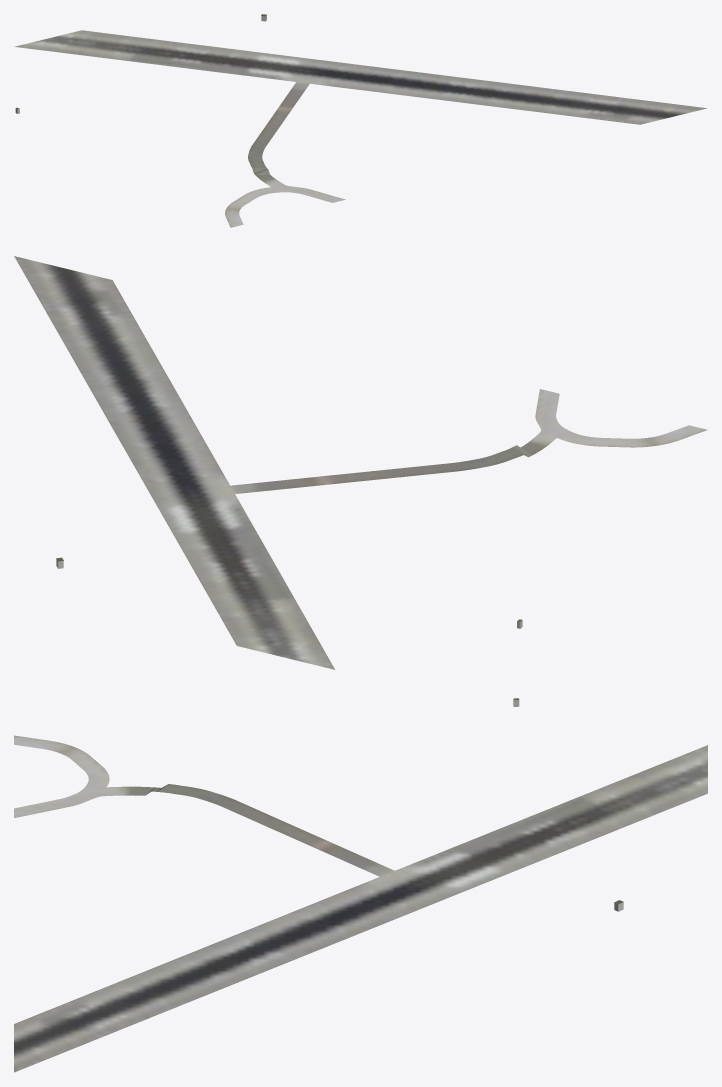
Rendered from LSZH_-2_4.glb.
The picture shows the model from 3 angles, top to bottom: view 1: azimuth 30°, elevation 25°; view 2: azimuth 150°, elevation 25°; view 3: azimuth 270°, elevation 25°; orthographic projection. The views are drawn at different scales.
Parts seen in each view (by area): view 1: pavement_LSZH_pavement_5366_2518, pavement_LSZH_pavement_5365_2518; view 2: pavement_LSZH_pavement_5366_2518, pavement_LSZH_pavement_5365_2518; view 3: pavement_LSZH_pavement_5366_2518, pavement_LSZH_pavement_5365_2518.
Part boxes in pixels (x1,y1,x2,y2): pavement_LSZH_pavement_5366_2518: (259, 52, 706, 124); pavement_LSZH_pavement_5365_2518: (14, 30, 345, 227); pavement_LSZH_pavement_5366_2518: (14, 256, 243, 535); pavement_LSZH_pavement_5365_2518: (174, 389, 707, 669); pavement_LSZH_pavement_5366_2518: (14, 872, 510, 1072); pavement_LSZH_pavement_5365_2518: (14, 735, 707, 872).
Size of the model in its own units: 635 by 7.31 by 500.
3 materials, 2 textured.
